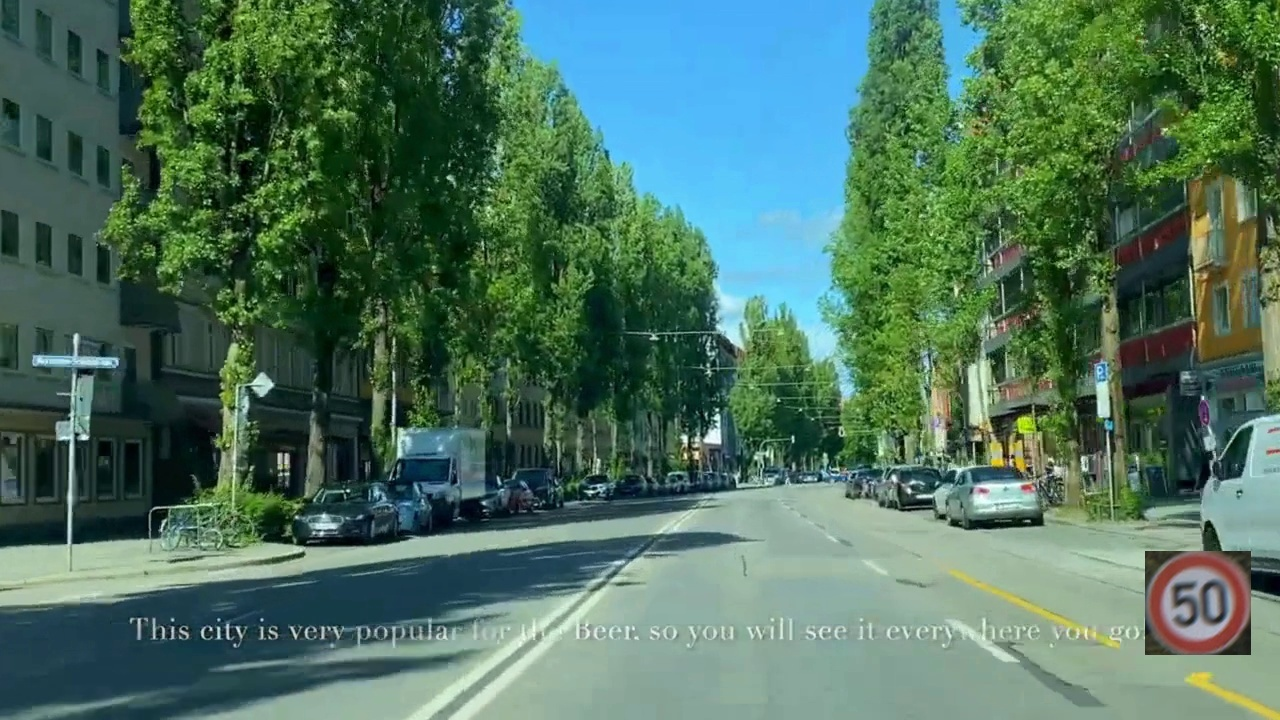Speed 50: (1145, 551, 1251, 655)
